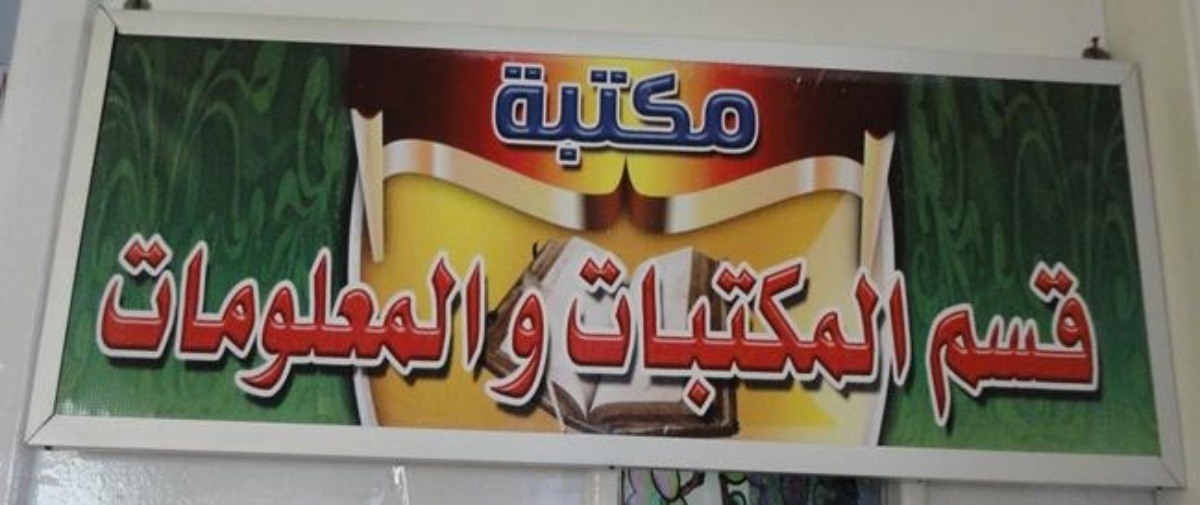text: (545, 228, 561, 419), (113, 228, 128, 419), (129, 228, 144, 419), (145, 228, 160, 419), (161, 228, 176, 419), (177, 228, 192, 419), (193, 228, 208, 419), (209, 228, 224, 419), (225, 228, 240, 419), (241, 228, 256, 419), (257, 228, 272, 419), (273, 228, 288, 419), (289, 228, 304, 419), (305, 228, 320, 419), (321, 228, 336, 419), (337, 228, 352, 419), (353, 228, 368, 419), (369, 228, 384, 419), (385, 228, 400, 419), (401, 228, 416, 419), (417, 228, 432, 419), (433, 228, 448, 419), (449, 228, 464, 419), (465, 228, 480, 419), (481, 228, 496, 419), (497, 228, 512, 419), (513, 228, 528, 419), (529, 228, 544, 419), (577, 252, 592, 432), (593, 252, 608, 432), (609, 252, 624, 432), (625, 252, 640, 432), (641, 252, 656, 432), (657, 252, 672, 432), (673, 252, 688, 432), (689, 252, 704, 432), (705, 252, 720, 432), (721, 252, 736, 432), (737, 252, 752, 432), (753, 252, 768, 432), (769, 252, 784, 432), (785, 252, 800, 432), (801, 252, 816, 432), (817, 252, 832, 432), (833, 252, 848, 432), (849, 252, 864, 432), (865, 252, 880, 432), (881, 252, 896, 432), (897, 252, 912, 432), (913, 258, 928, 428), (929, 258, 944, 428), (945, 258, 960, 428), (961, 258, 976, 428), (977, 258, 992, 428), (993, 258, 1008, 428), (1009, 258, 1024, 428), (1025, 258, 1040, 428), (1041, 258, 1056, 428), (1057, 258, 1072, 428), (1073, 258, 1088, 428), (1089, 258, 1101, 428), (497, 58, 512, 184), (513, 58, 528, 184), (529, 58, 544, 184), (545, 58, 560, 184), (561, 58, 576, 184), (577, 58, 592, 184), (593, 58, 608, 184), (609, 58, 624, 184), (625, 58, 640, 184), (641, 58, 656, 184), (657, 58, 672, 184), (673, 58, 688, 184), (689, 58, 704, 184), (705, 58, 720, 184), (721, 58, 736, 184), (737, 58, 752, 184), (753, 58, 762, 184), (913, 252, 919, 432), (489, 58, 496, 184), (574, 252, 576, 432), (111, 228, 112, 419)
